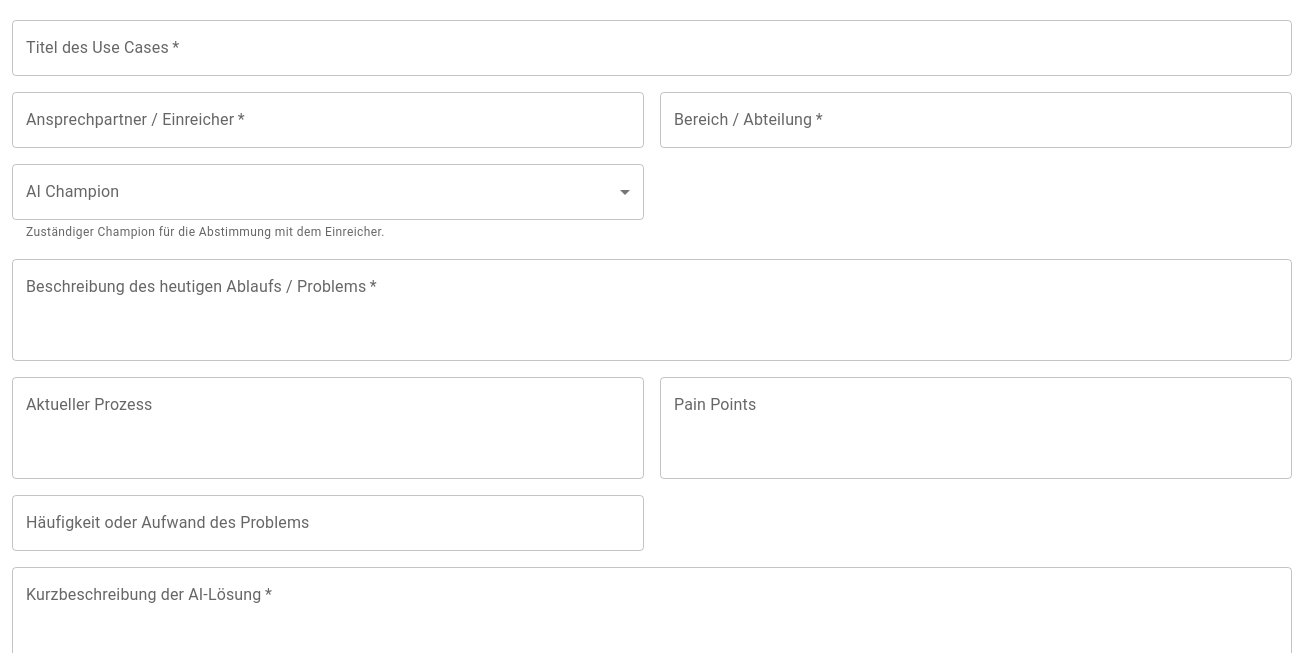
Test: UseCaseForm › shows validation errors when required fields are too short
Type "ab" into the field labelled "Titel des Use Cases *" at {"x": 652, "y": 48}, box [12, 20, 1292, 76]
(page scrolled)
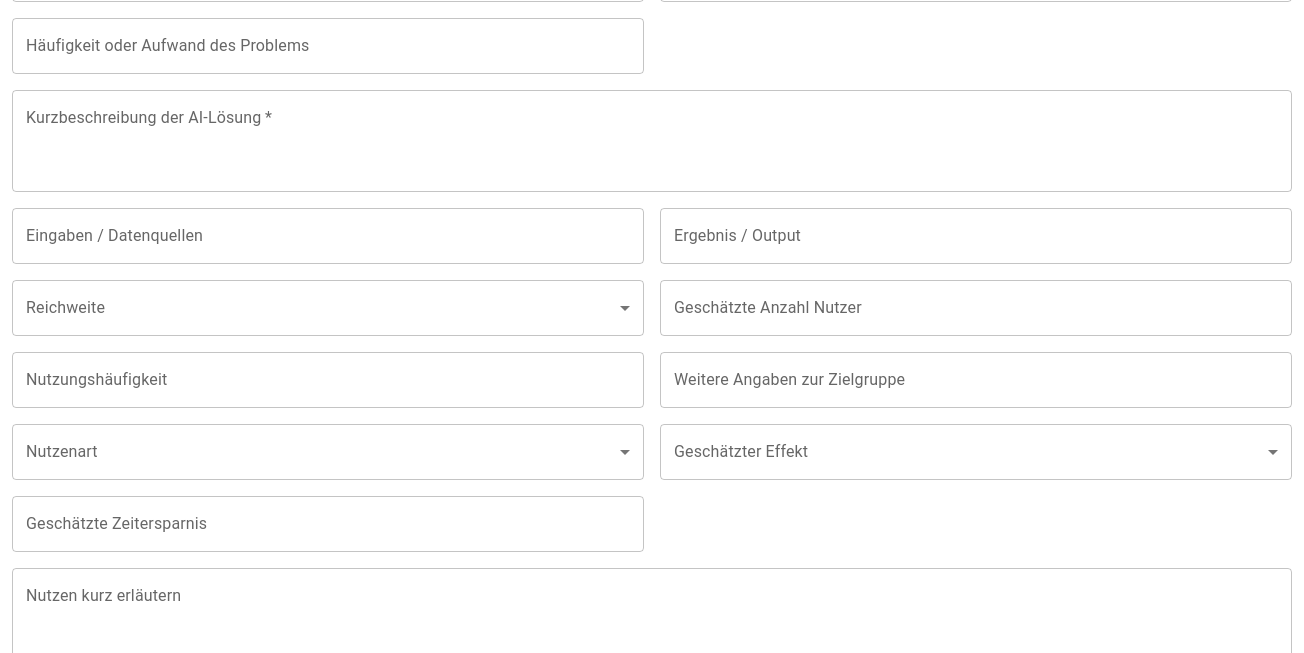
Submit the form with id "test-form"
(page scrolled)
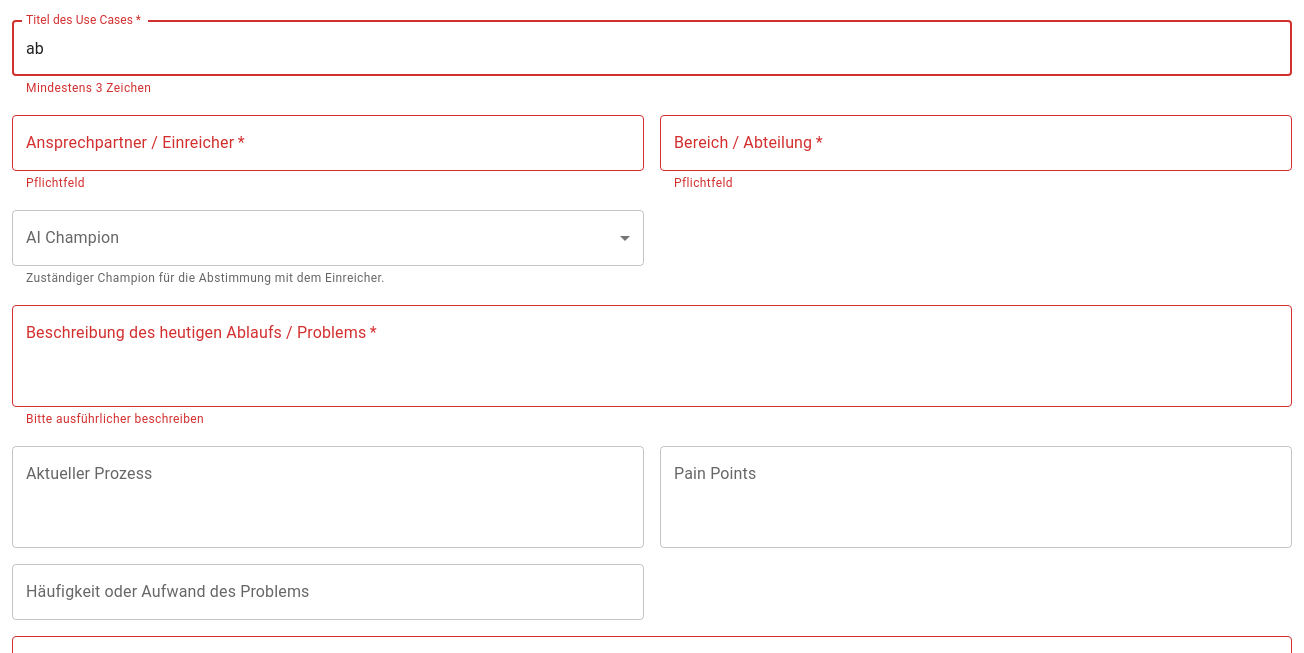
Result: the text "Mindestens 3 Zeichen" is shown at [26, 81, 151, 95]
